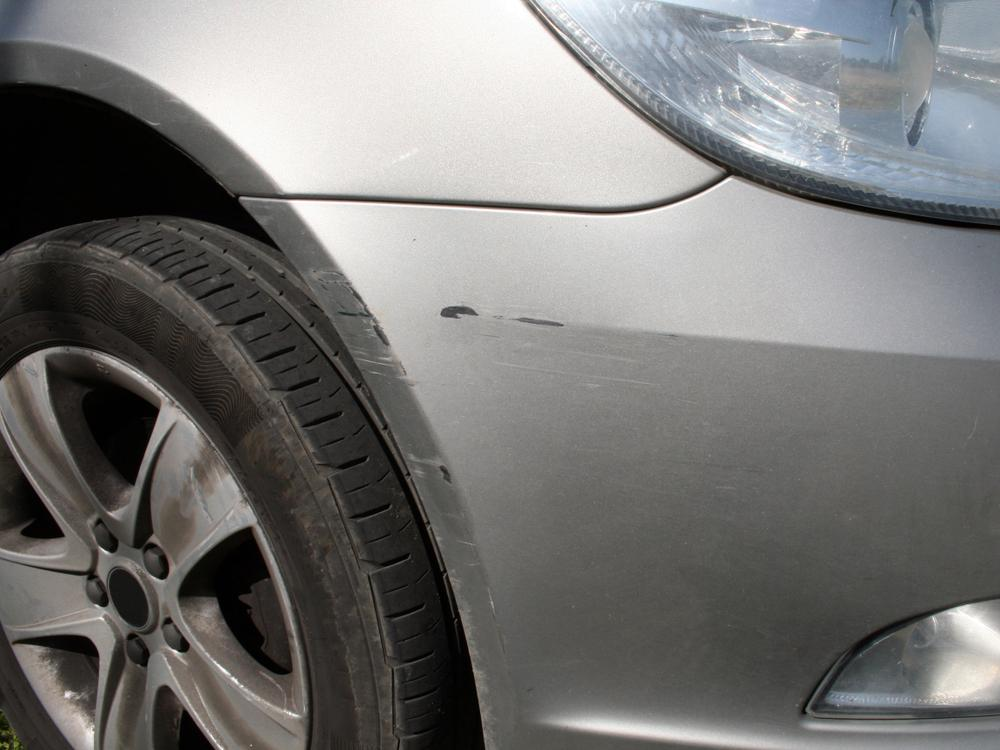scratch: (308, 263, 696, 529)
